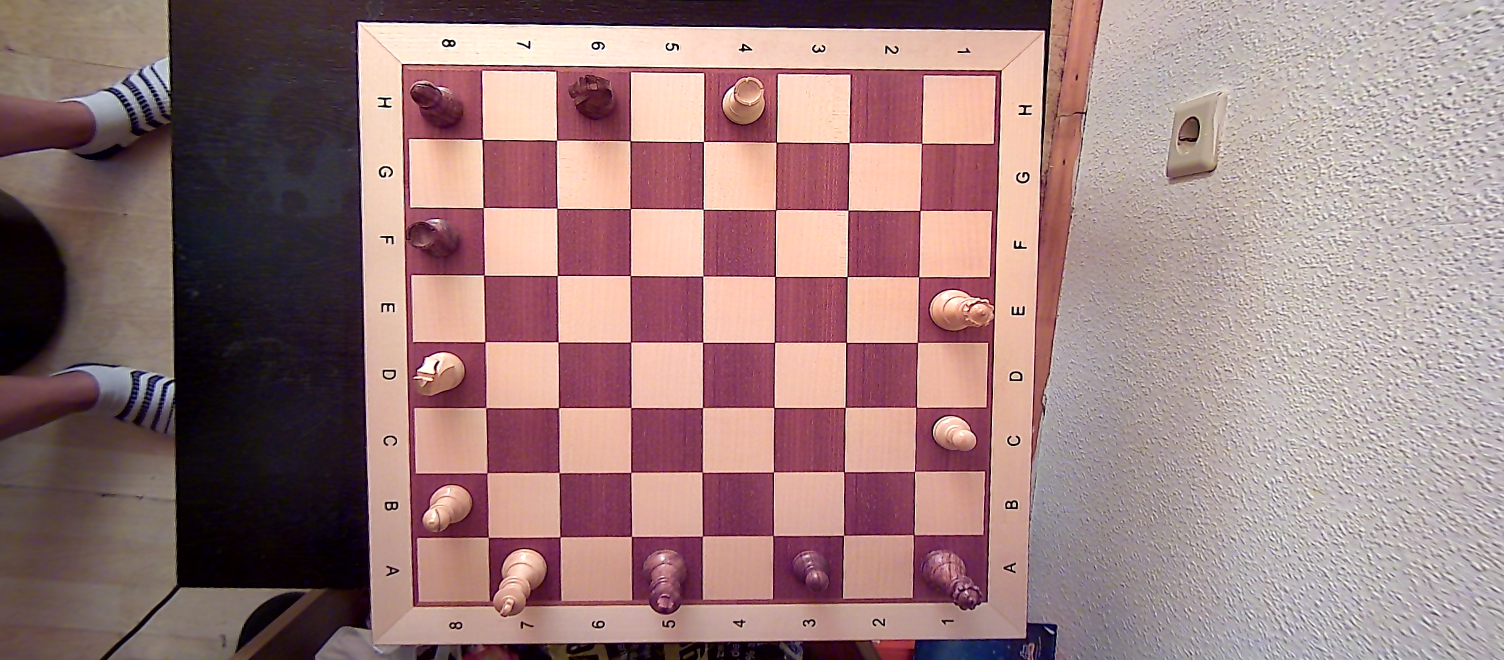black-bishop: (403, 77, 465, 131)
black-king: (639, 545, 694, 615)
black-knight: (565, 70, 622, 126)
black-pawn: (787, 546, 835, 595)
black-queen: (920, 545, 988, 612)
black-rook: (403, 214, 460, 260)
white-bishop: (415, 484, 474, 535)
white-king: (492, 547, 550, 619)
white-knight: (409, 351, 468, 399)
white-pawn: (928, 412, 979, 458)
white-queen: (926, 284, 996, 334)
white-rook: (712, 74, 768, 128)
